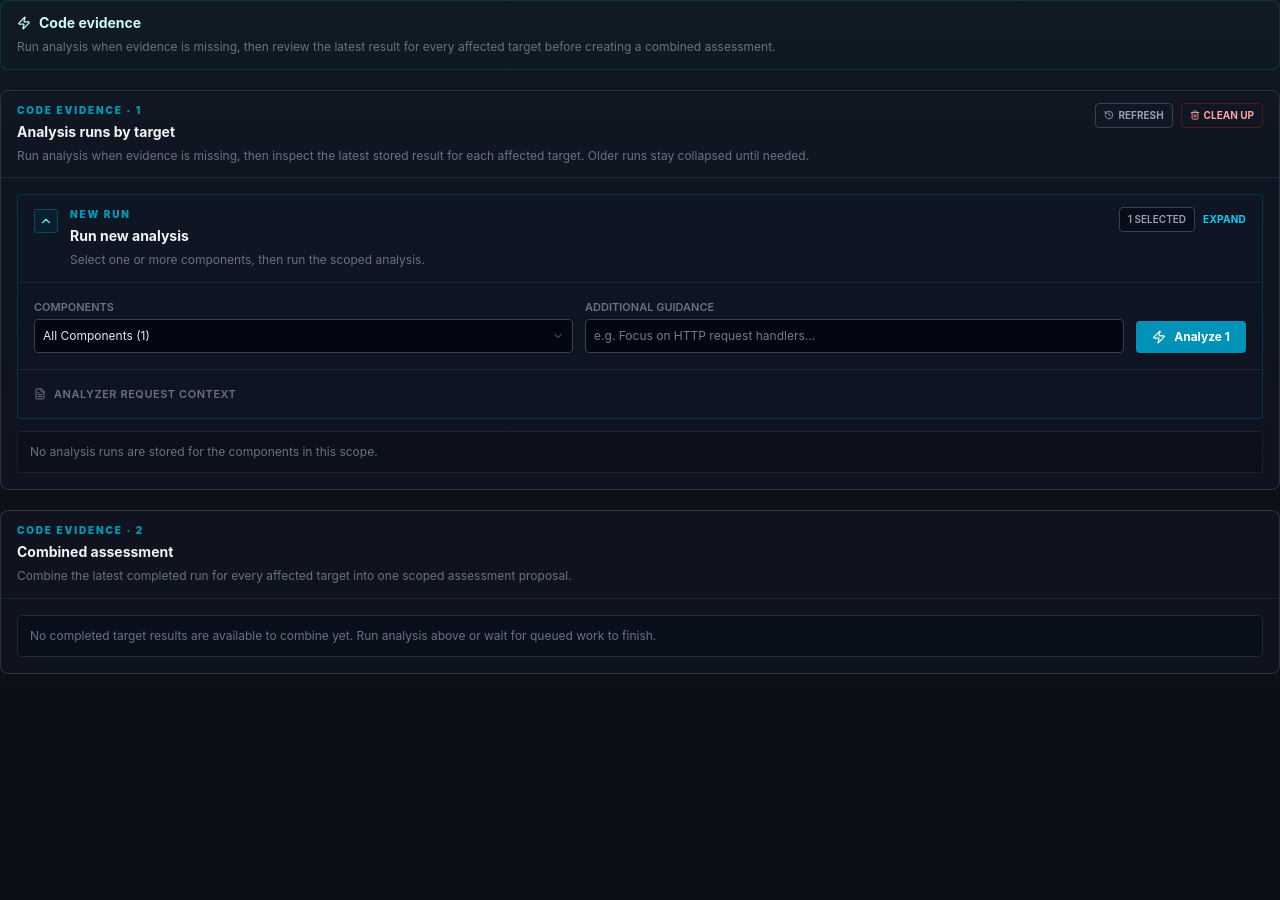
Test: CodeAnalysisPanel › cleans vulnerability assessments and runs independently
Click the button with test id "analysis-cleanup-toggle" at [1222, 115], box [1181,102,1263,128]
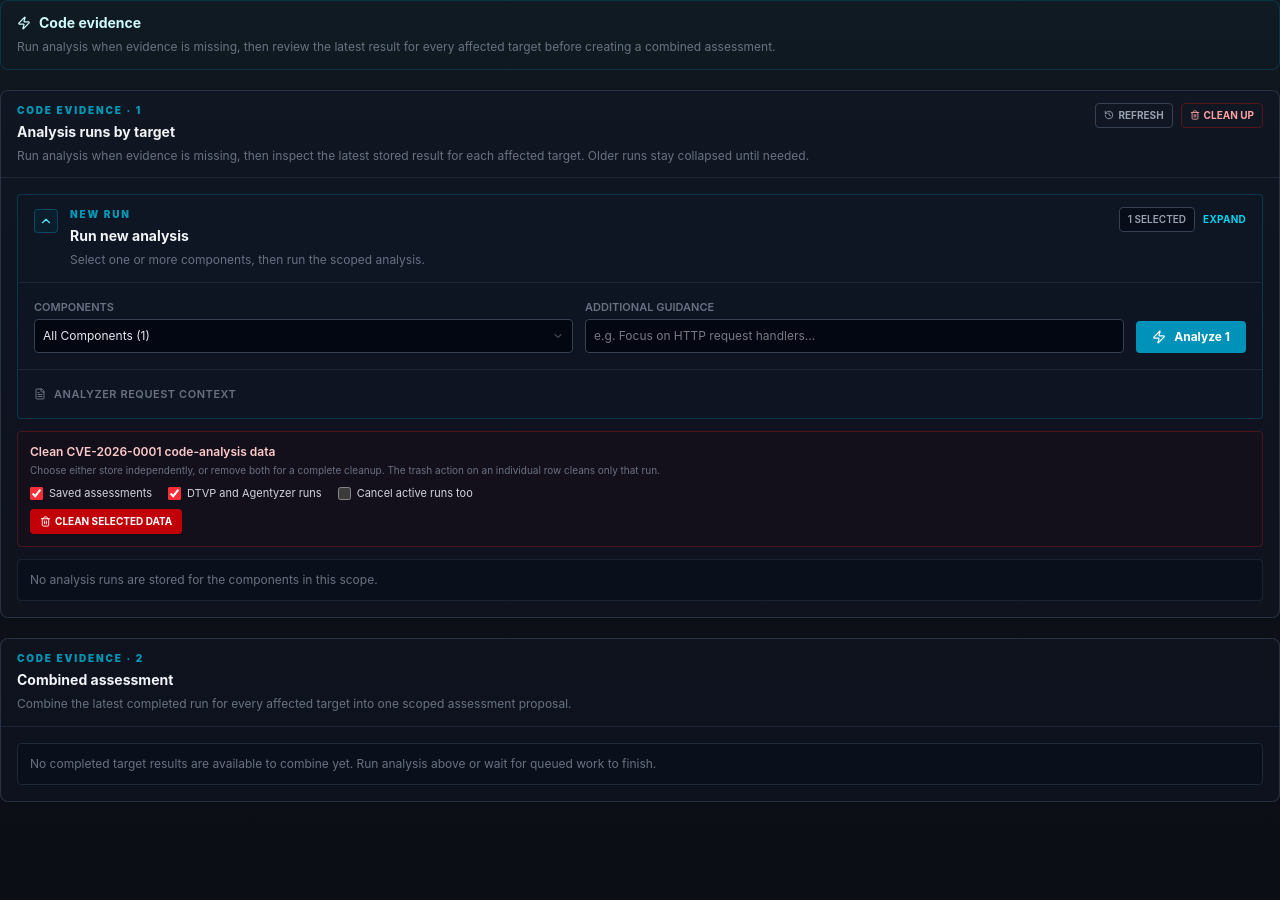
Click the checkbox labelled "Saved assessments" at [36, 494], box [30,487,43,500]
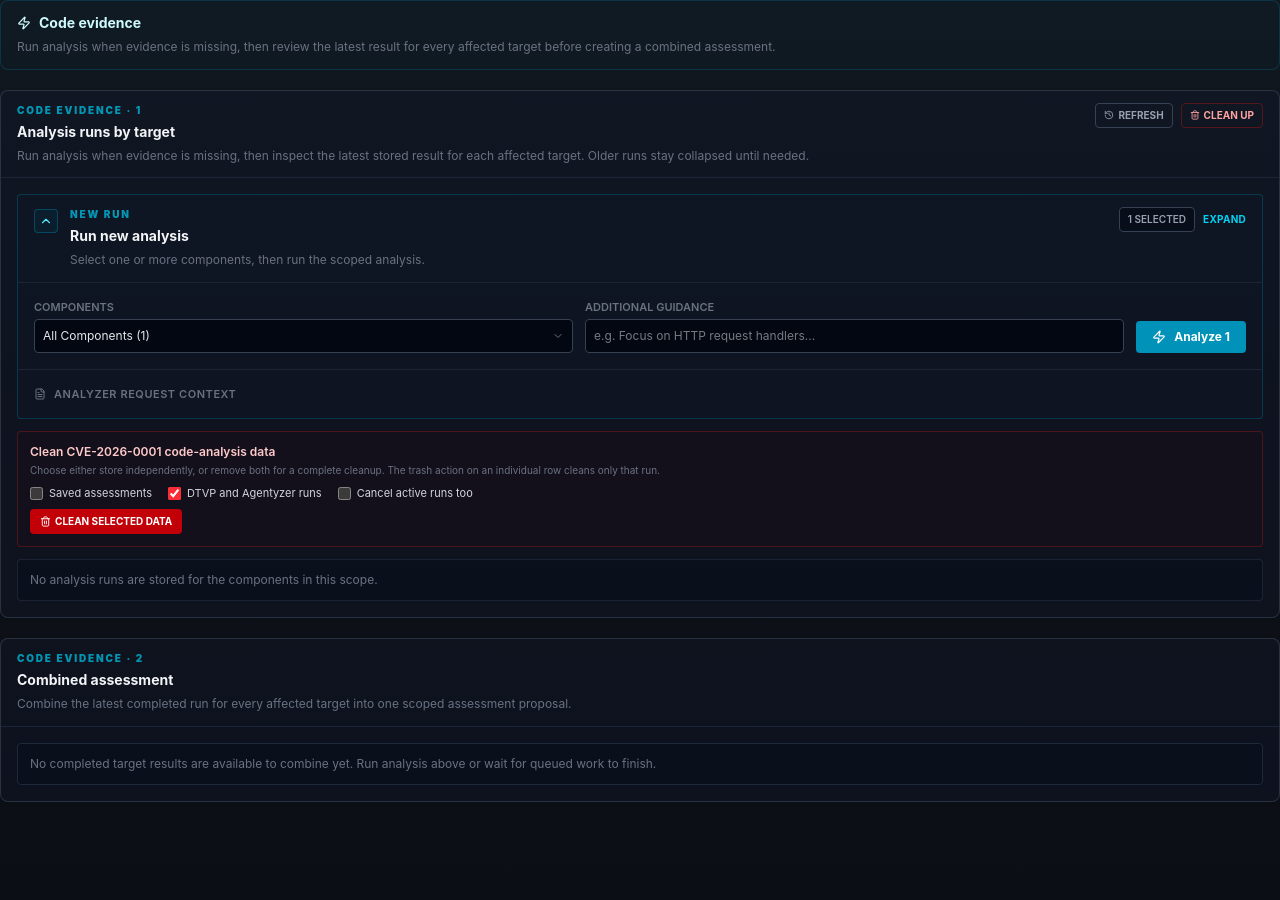
Click the checkbox labelled "Cancel active runs too" at [344, 494], box [338,487,351,500]
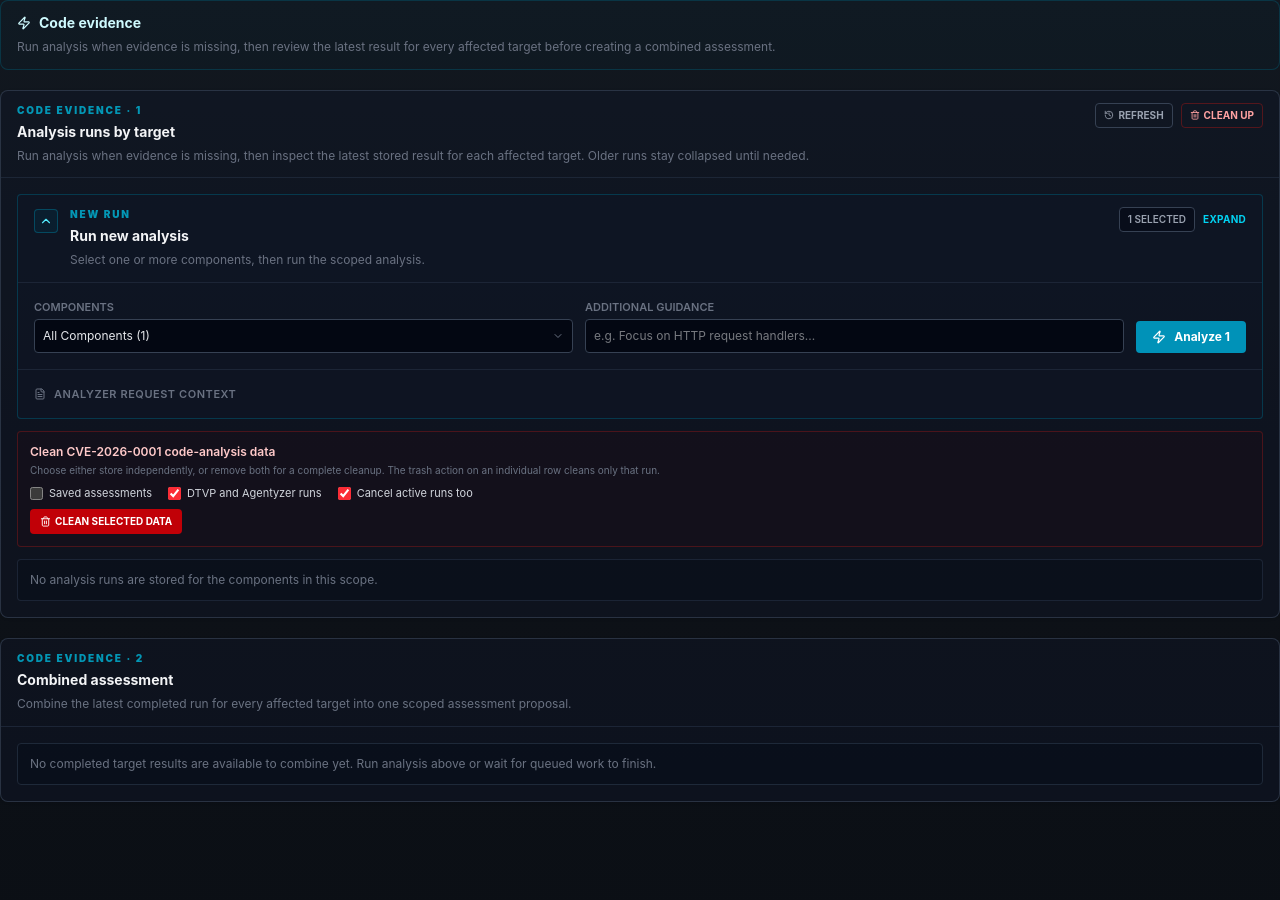
Click the button with test id "analysis-cleanup-submit" at [106, 522], box [30,509,182,534]
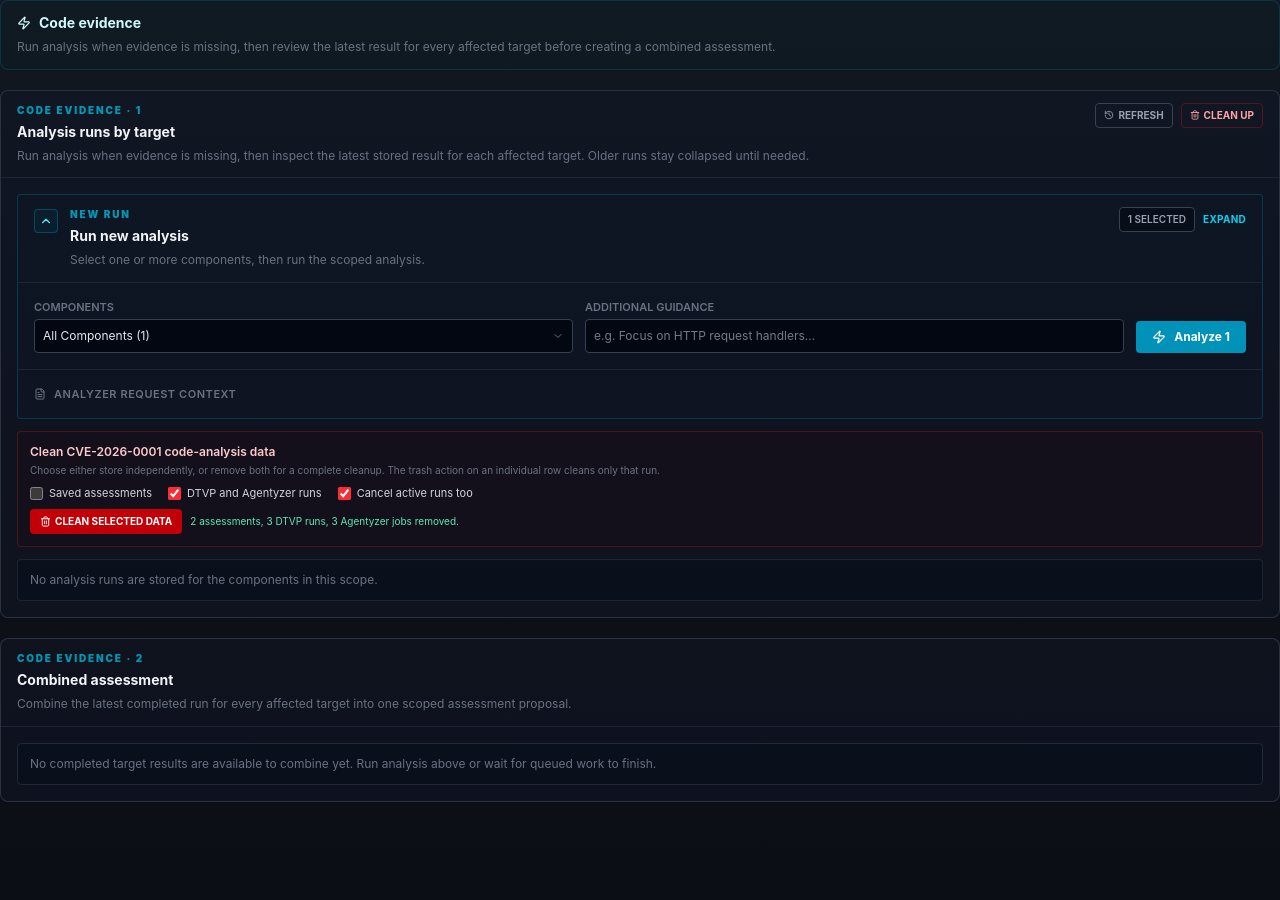
Expected: the element with test id "analysis-cleanup-panel" shows "2 assessments, 3 DTVP runs, 3 Agentyzer jobs removed.", [190,515,459,527]
